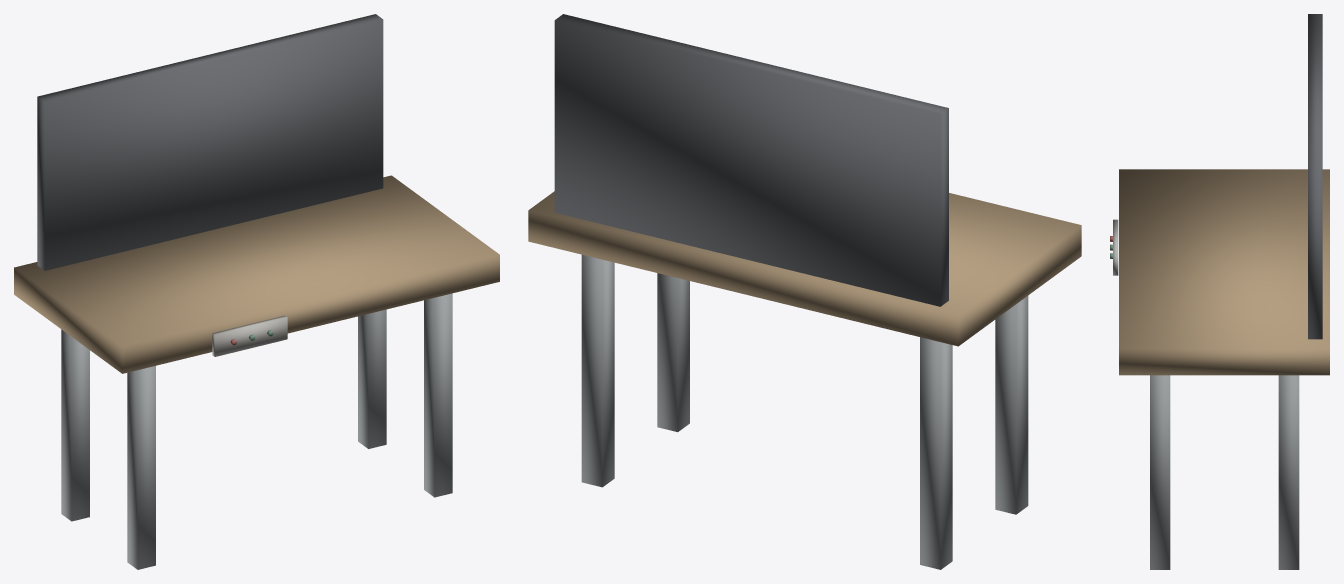
Rendered from basement_workbench.glb.
3 views of the same model, side by side, from view 1: azimuth 30°, elevation 25°; view 2: azimuth 150°, elevation 25°; view 3: azimuth 270°, elevation 25° (orthographic). The views are drawn at different scales.
Parts seen in each view (by area): view 1: world; view 2: world; view 3: world.
Boxes of the visible parts, x1,y1,x2,y2 form: world: (14, 14, 499, 569); world: (528, 14, 1081, 569); world: (1110, 14, 1329, 569).
Bounding box in the file's own units: 1.45 × 1.51 × 0.751.
